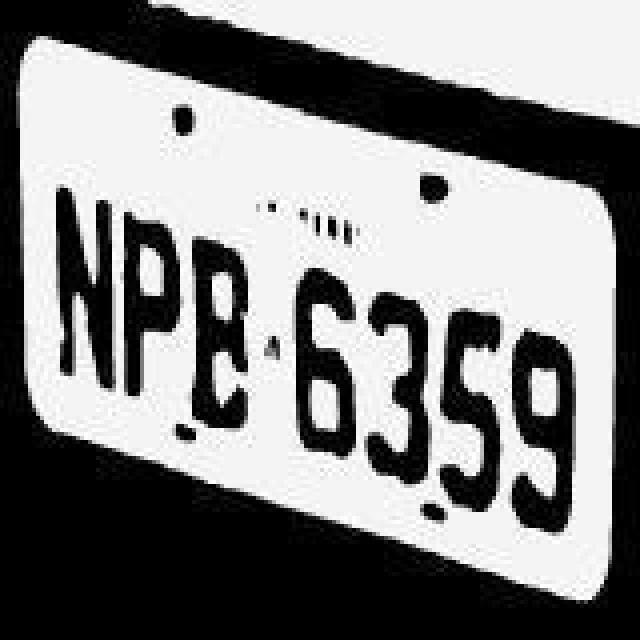3: (366, 250, 434, 494)
5: (436, 282, 508, 518)
6: (282, 250, 358, 486)
9: (510, 266, 578, 550)
B: (190, 208, 258, 440)
N: (48, 182, 120, 402)
P: (120, 186, 184, 414)
